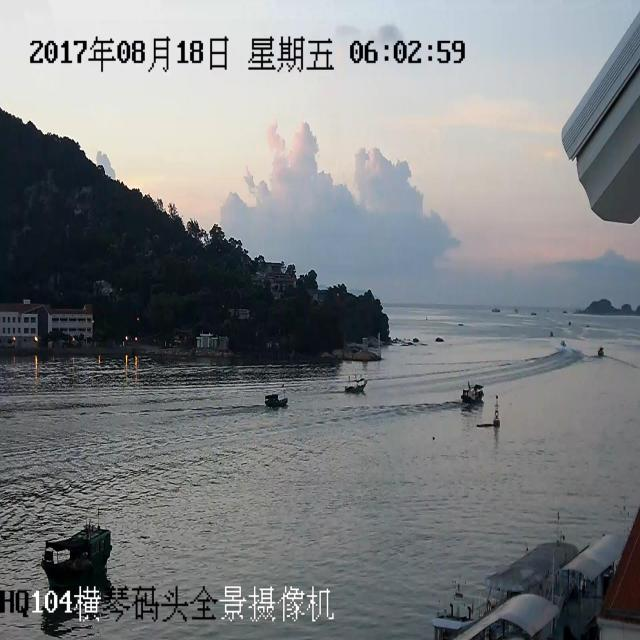buoy: (492, 384, 505, 415)
fishing boat: (31, 513, 123, 629), (254, 372, 293, 425), (337, 366, 376, 407), (456, 365, 484, 409)
